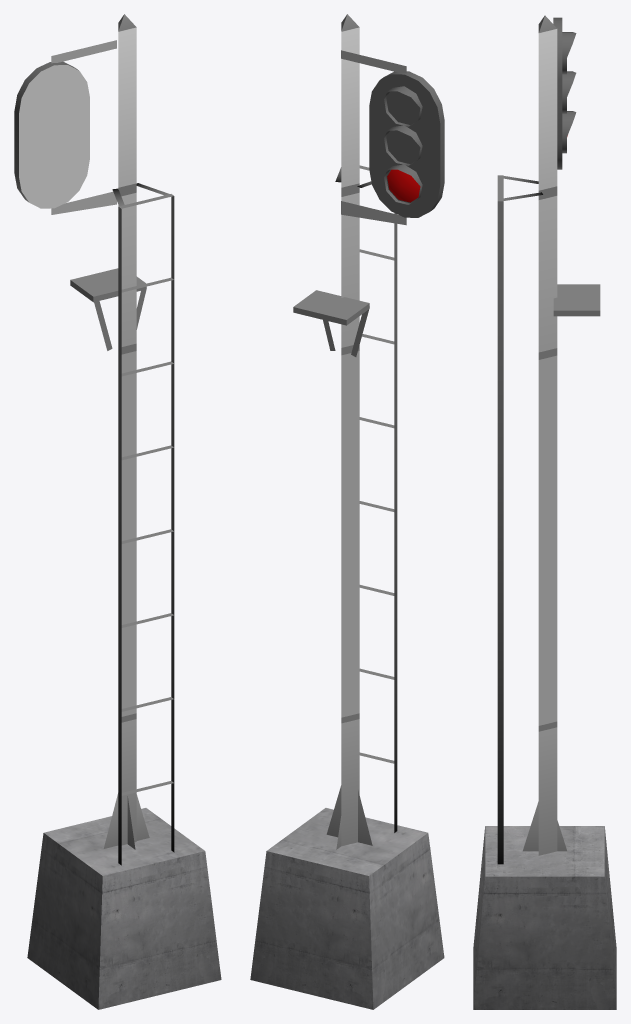
The model's file is SIGNAL_RED_AMB.glb.
The picture shows the model from 3 angles, left to right: view 1: azimuth 30°, elevation 25°; view 2: azimuth 150°, elevation 25°; view 3: azimuth 270°, elevation 25°; orthographic projection.
Visible parts, largest first — view 1: body; view 2: body; view 3: body.
Part boxes in pixels (bbox=[...]): body: bbox=[14, 14, 221, 1009]; body: bbox=[250, 14, 444, 1009]; body: bbox=[473, 15, 616, 1009].
Size of the model in its own units: 3.05 by 17.08 by 2.3.
3 materials, 3 textured.
